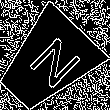N_SW: (15, 31, 79, 95)
